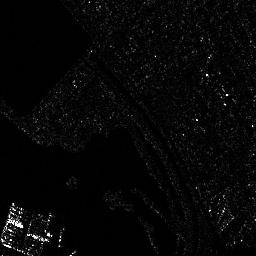ship: (7, 200, 52, 236), (1, 222, 48, 256)
